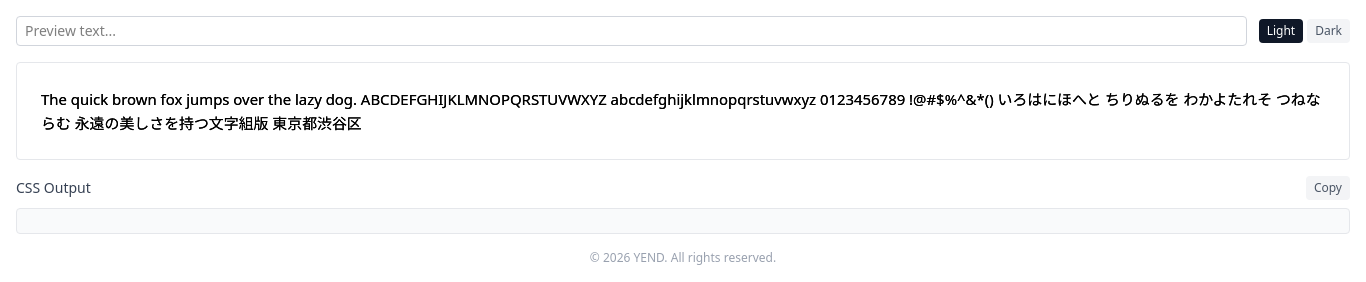
Scenario: PreviewPanel › テキストエリアでプレビューテキストを変更できる
Type "Custom text" into the text box at (631, 31), box top-left (16, 16), bottom-right (1247, 46)
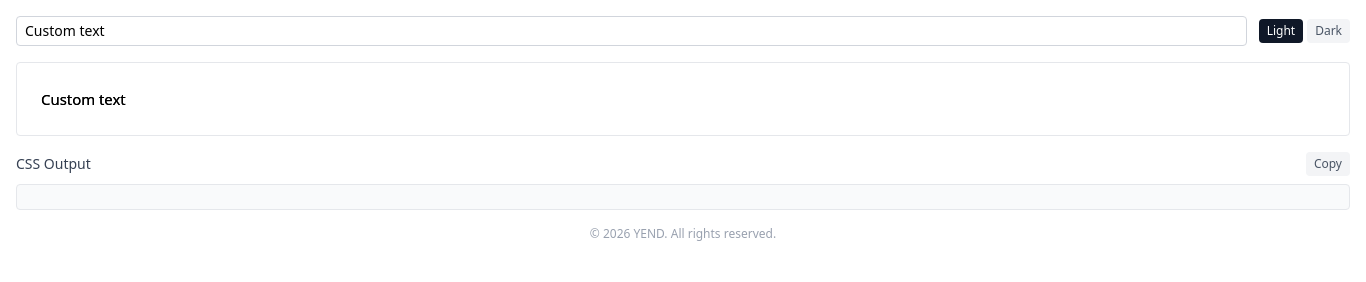
Result: the element with test id "preview-area" reads "Custom text" at top-left (41, 89), bottom-right (126, 109)
